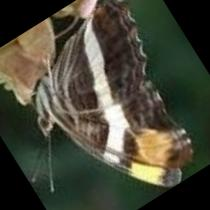butterfly: (36, 0, 192, 186)
